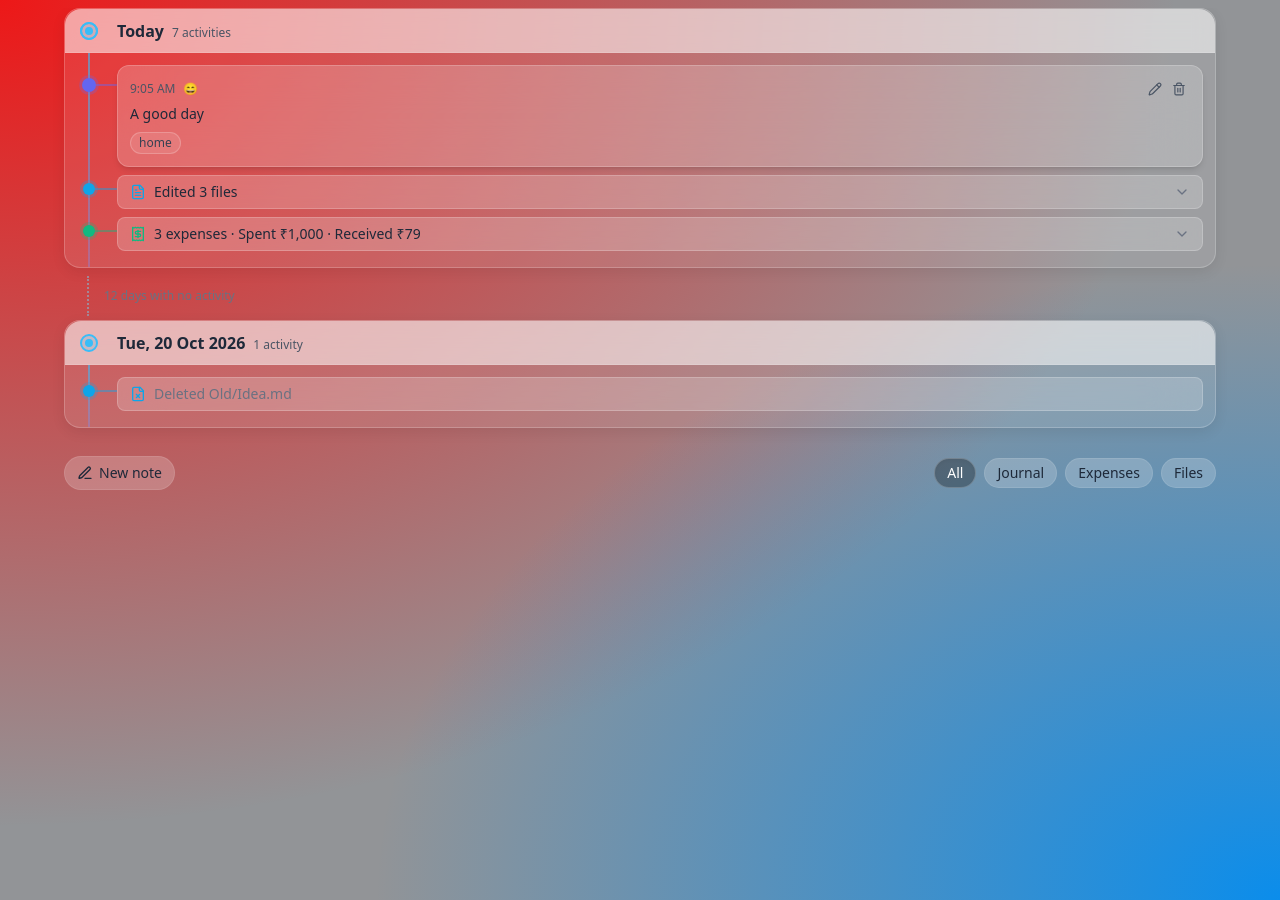
Test: Timeline › expands a group inline and keeps collapsed content out of reach
This screenshot has width=1280, height=900.
What coordinates should you click on to do the following:
click the button "Edited 3 files"
I would click on:
 (196, 192)
Its box is [117,175,1203,209].
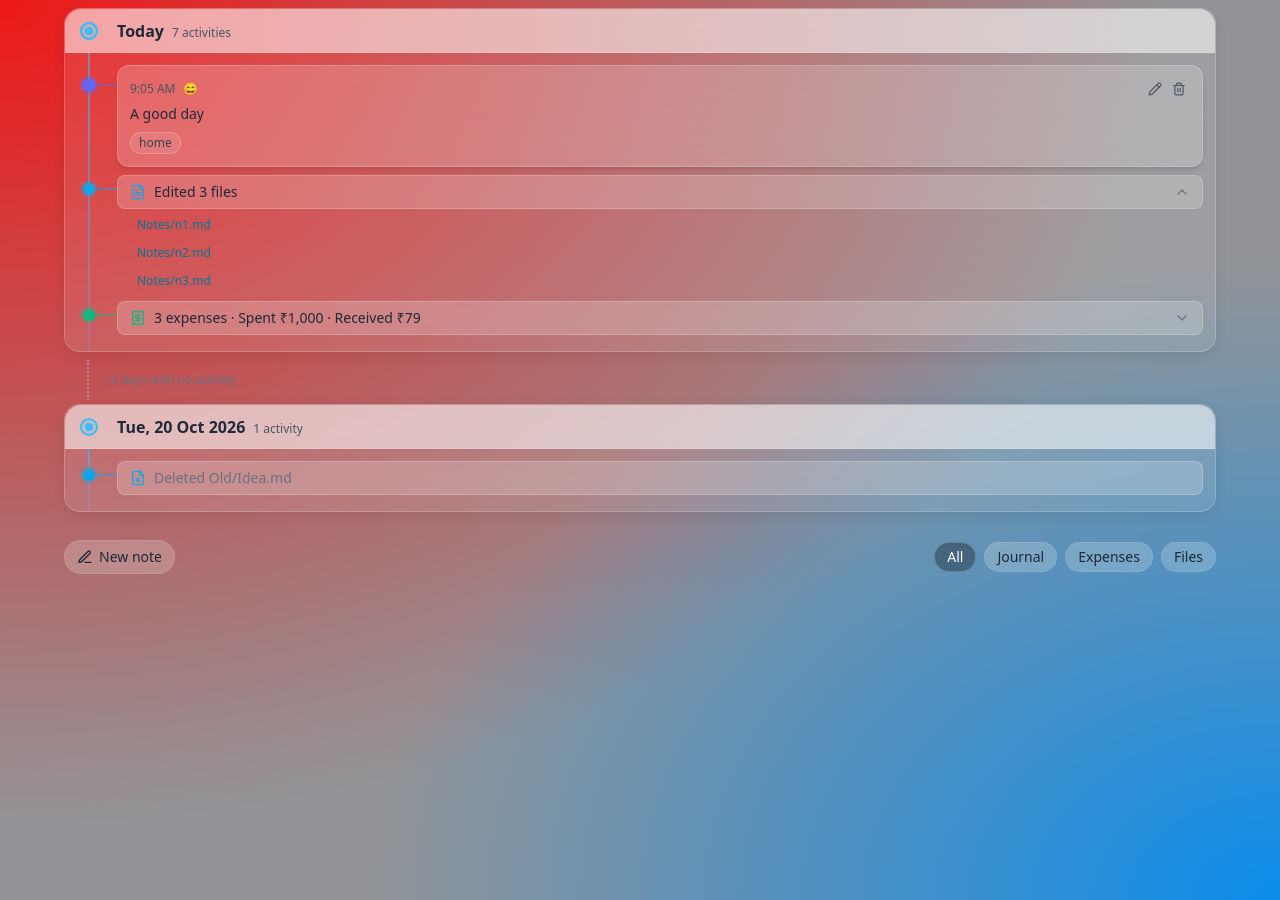
Check: the button "Edited 3 files" is expanded
Check: the link "Notes/n2.md" is shown, box [137,244,211,261]
What coordinates should you click on to do the following:
click the button "Edited 3 files"
I would click on:
 (196, 192)
Its box is [117,175,1203,209].
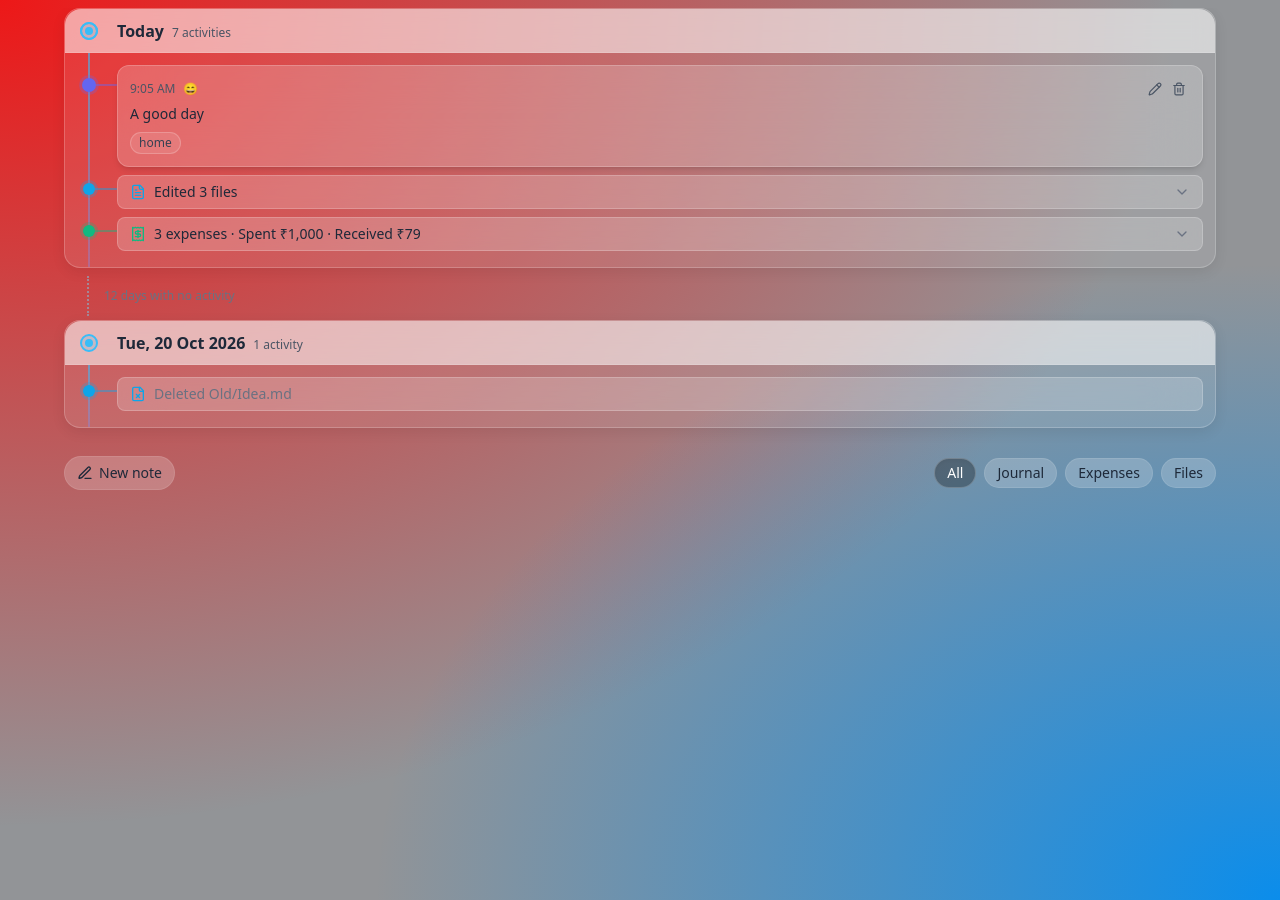
Check: the button "Edited 3 files" is collapsed, box [117,175,1203,209]
